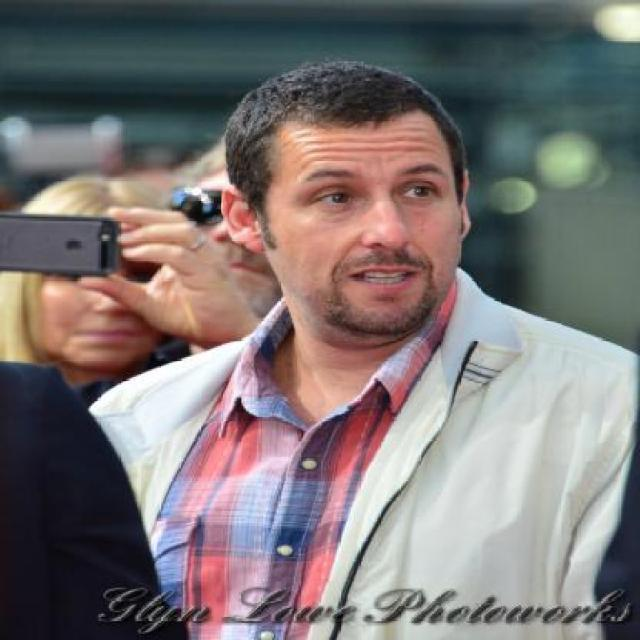phone: (14, 196, 146, 284)
